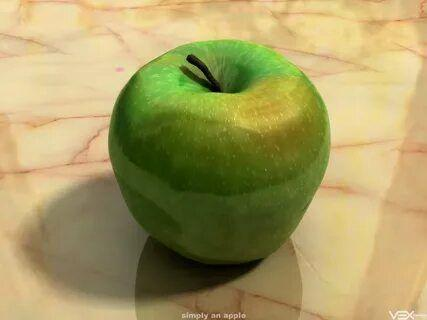Apple: (110, 39, 332, 261)
